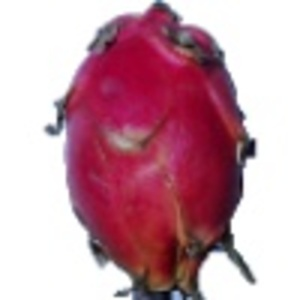pitaia: (45, 1, 259, 300)
